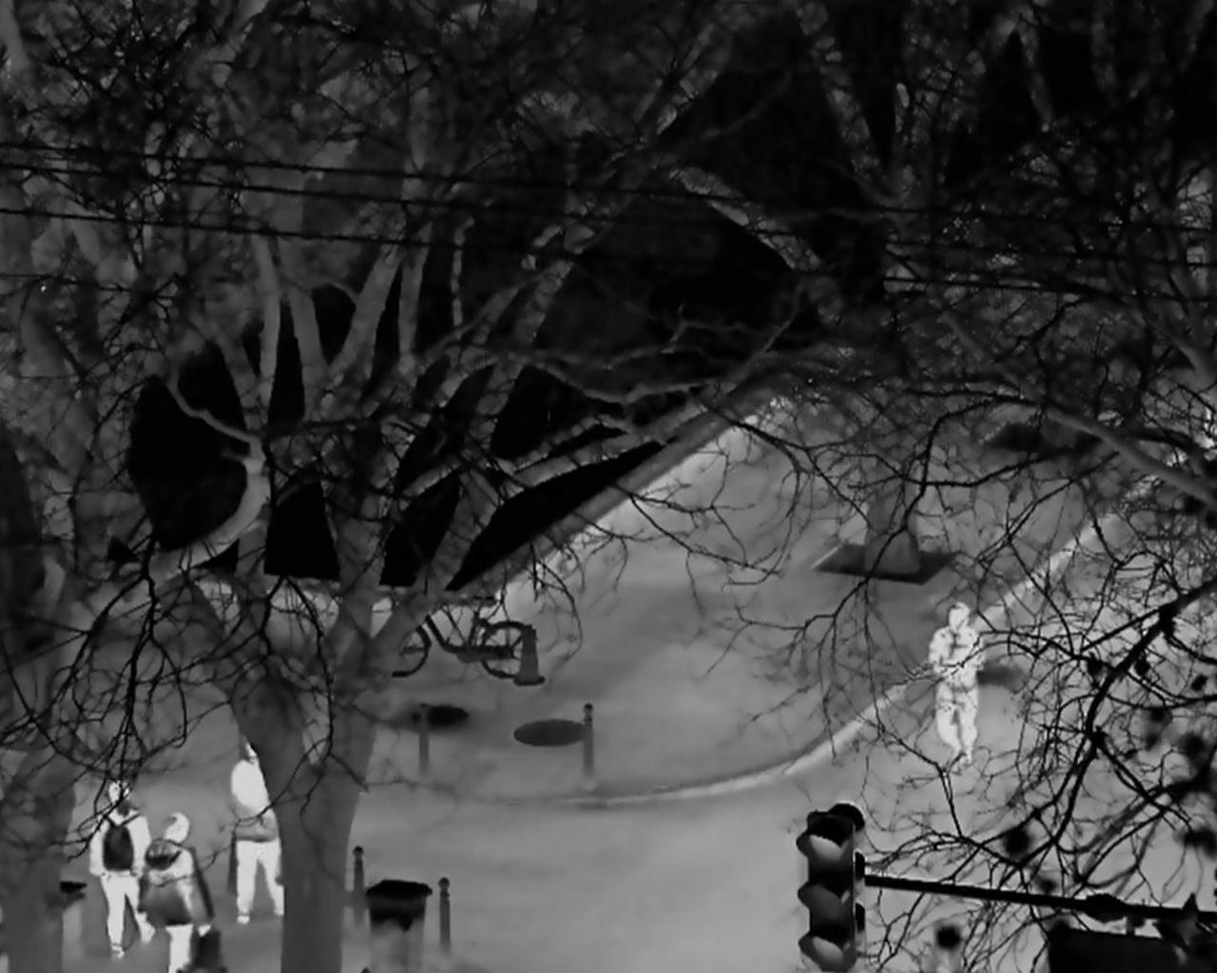person: (230, 737, 295, 922), (139, 812, 213, 973), (88, 784, 153, 961), (929, 601, 989, 768)
